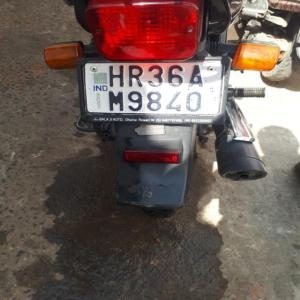Plate: (86, 61, 229, 117)
